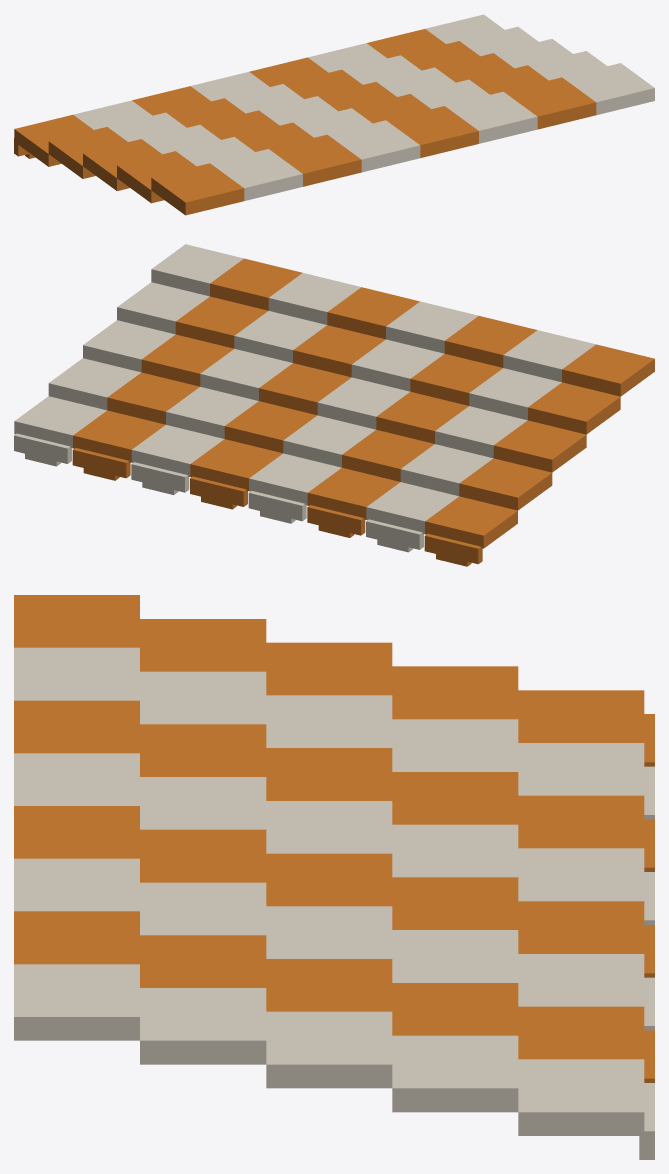
Rendered from cp-awning-orange.glb.
3 views of the same model, one above another, from view 1: azimuth 30°, elevation 25°; view 2: azimuth 150°, elevation 25°; view 3: azimuth 270°, elevation 25° (orthographic). The views are drawn at different scales.
Visible parts, largest first — view 1: box-prop; view 2: box-prop; view 3: box-prop.
Boxes of the visible parts, x1,y1,x2,y2 form: box-prop: (14, 14, 654, 215); box-prop: (14, 244, 654, 566); box-prop: (14, 595, 654, 1159).
Size of the model in its own units: 7.6 by 1.3 by 4.88.
